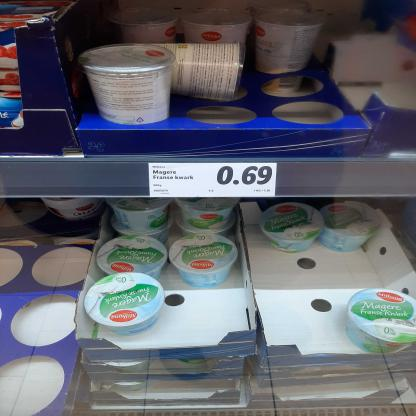prtg: (149, 164, 278, 198)
